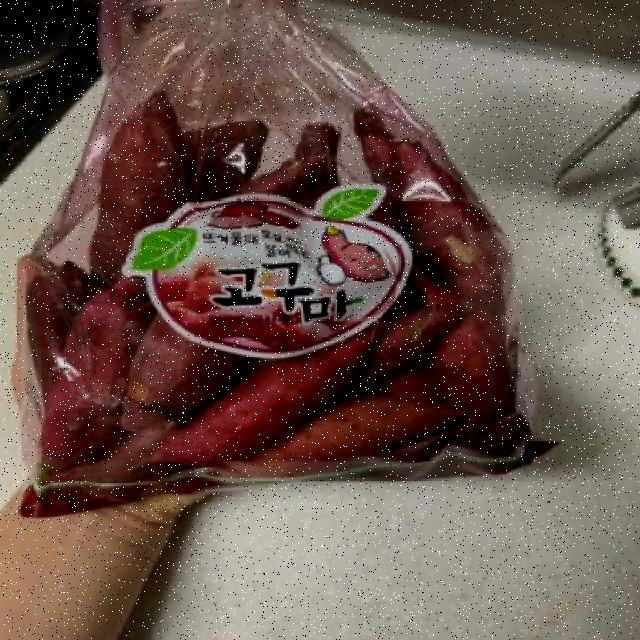Sweet Potato: (23, 0, 552, 505)
